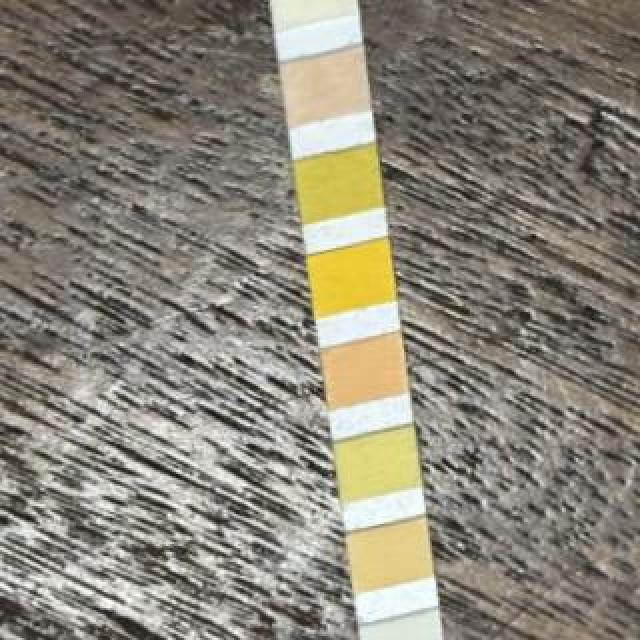Bilirubin: (272, 0, 352, 12)
Blood: (314, 255, 390, 300)
Ketone: (286, 63, 366, 111)
Leukocytes: (364, 624, 440, 640)
Protein: (344, 443, 414, 487)
SpGravity: (300, 162, 378, 208)
Urobilinogen: (353, 534, 427, 578)
pH: (326, 348, 404, 395)
